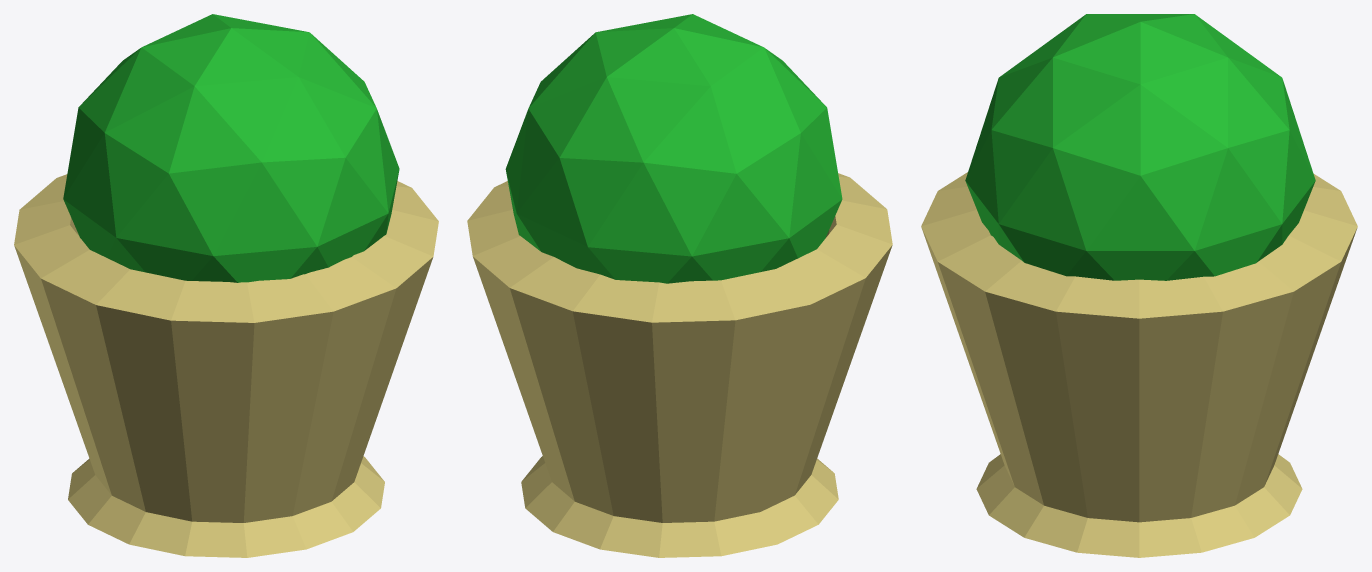
File: PottedPlant.fbx
3 renders of one model, left to right at view 1: azimuth 30°, elevation 25°; view 2: azimuth 150°, elevation 25°; view 3: azimuth 270°, elevation 25°, orthographic.
Parts seen in each view (by area): view 1: PottedPlant; view 2: PottedPlant; view 3: PottedPlant.
Boxes of the visible parts, x1,y1,x2,y2 form: PottedPlant: (14, 14, 438, 557); PottedPlant: (467, 14, 892, 557); PottedPlant: (921, 14, 1357, 557).
Size of the model in its own units: 268 by 318 by 268.
